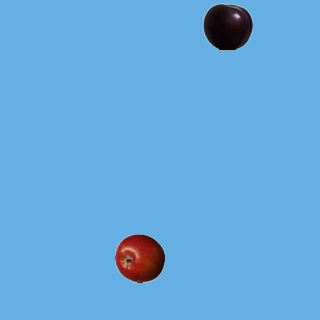Apple Braeburn: (114, 233, 164, 283)
Cherry Wax Black: (202, 1, 252, 51)
